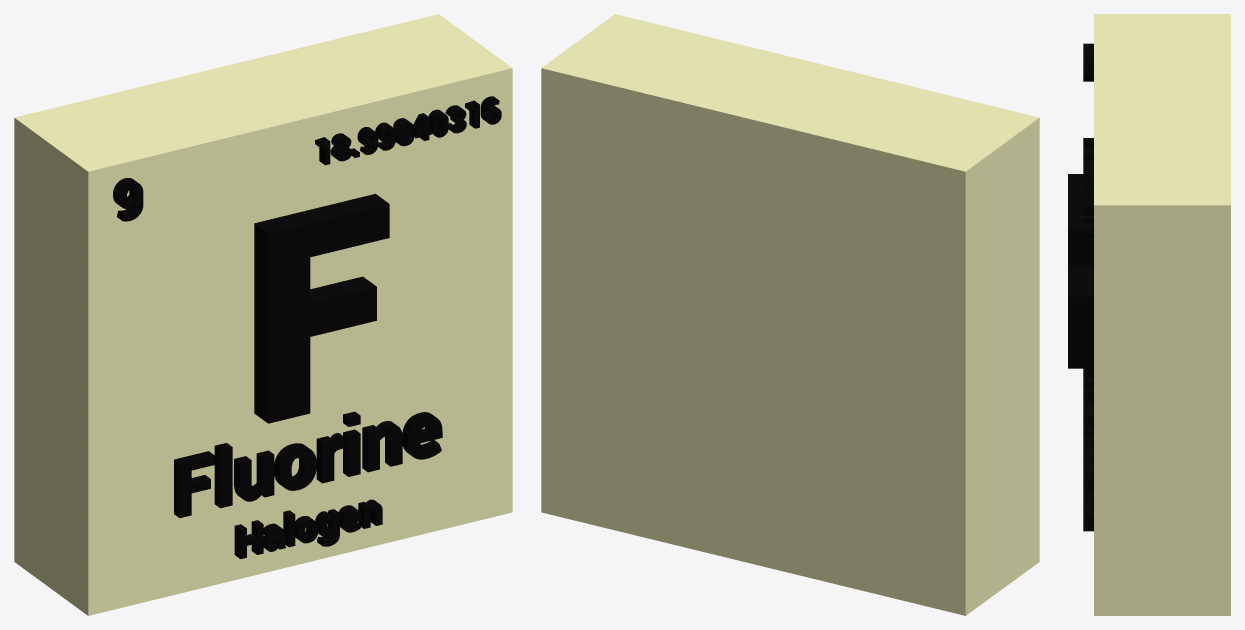
3 views of the same model, side by side, from view 1: azimuth 30°, elevation 25°; view 2: azimuth 150°, elevation 25°; view 3: azimuth 270°, elevation 25° (orthographic). The views are drawn at different scales.
Visible parts, largest first — view 1: Cube, Text, Text.001, Text.004, Text.002, Text.003; view 2: Cube; view 3: Cube, Text, Text.001, Text.004, Text.003, Text.002.
Part boxes in pixels (x1=…): Cube: x1=14, y1=14, x2=512, y2=615; Text: x1=254, y1=194, x2=389, y2=423; Text.001: x1=174, y1=411, x2=442, y2=517; Text.004: x1=315, y1=96, x2=501, y2=165; Text.002: x1=234, y1=499, x2=382, y2=558; Text.003: x1=113, y1=178, x2=143, y2=221; Cube: x1=541, y1=14, x2=1039, y2=615; Cube: x1=1094, y1=14, x2=1230, y2=615; Text: x1=1068, y1=174, x2=1093, y2=368; Text.001: x1=1083, y1=368, x2=1093, y2=503; Text.004: x1=1083, y1=138, x2=1093, y2=237; Text.003: x1=1083, y1=43, x2=1093, y2=81; Text.002: x1=1083, y1=503, x2=1093, y2=531.
Size of the model in its own units: 178 by 178 by 63.95.
